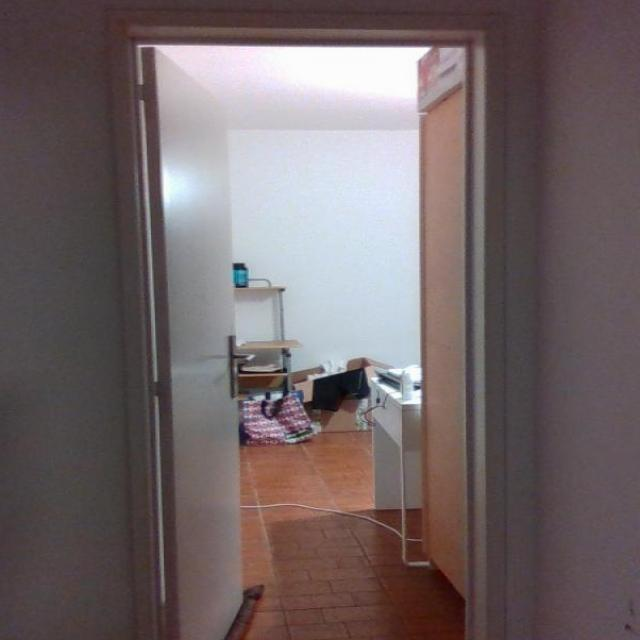door: (130, 41, 254, 640)
